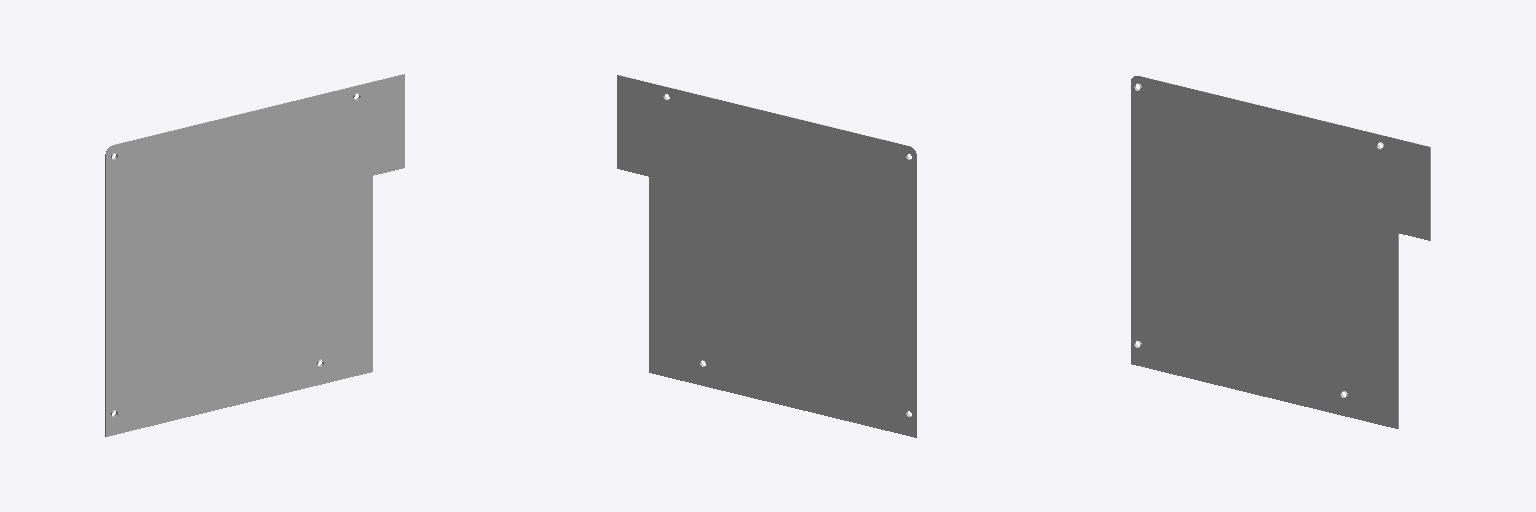
The model's file is mounting supports.obj.
The picture shows the model from 3 angles: view 1: azimuth 30°, elevation 25°; view 2: azimuth 150°, elevation 25°; view 3: azimuth 330°, elevation 25°; orthographic projection.
Parts seen in each view (by area): view 1: Mesh1 Group1 Model; view 2: Mesh1 Group1 Model; view 3: Mesh1 Group1 Model.
Part boxes in pixels (bbox=[...]): Mesh1 Group1 Model: bbox=[105, 74, 404, 436]; Mesh1 Group1 Model: bbox=[617, 75, 916, 437]; Mesh1 Group1 Model: bbox=[1131, 76, 1430, 428].
Size of the model in its own units: 192 by 177 by 1.9.